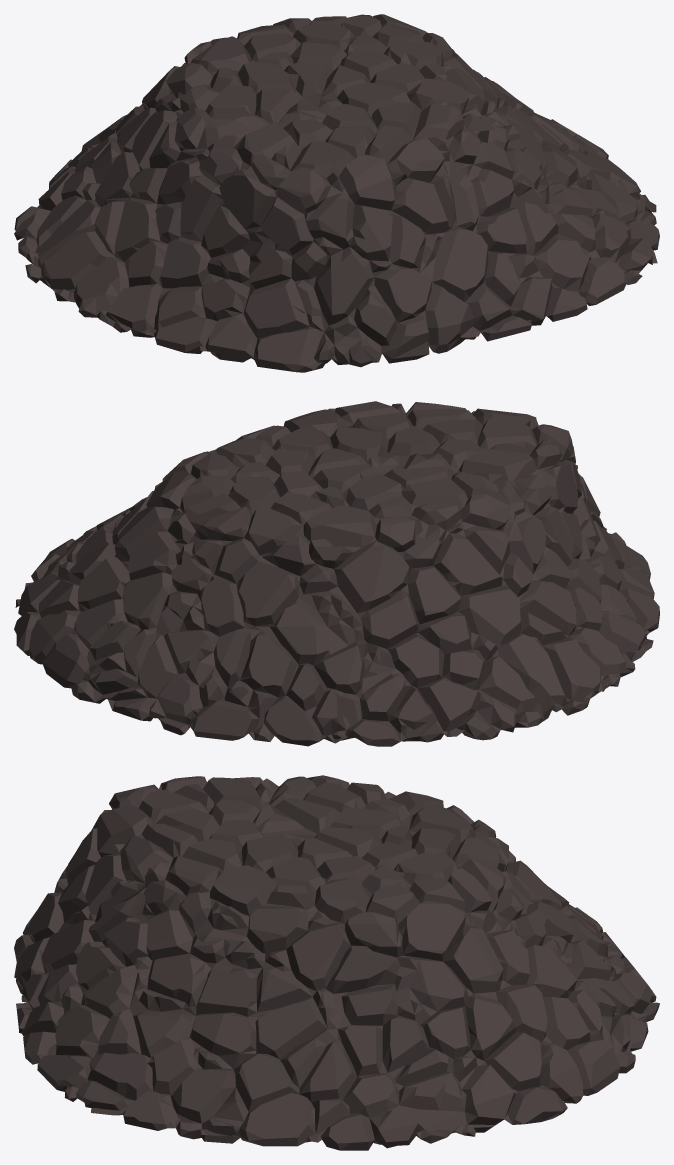
Rendered from StoneBig06.fbx.
3 views of the same model, one above another, from view 1: azimuth 30°, elevation 25°; view 2: azimuth 150°, elevation 25°; view 3: azimuth 270°, elevation 25° (orthographic). The views are drawn at different scales.
Parts seen in each view (by area): view 1: Cylinder.009; view 2: Cylinder.009; view 3: Cylinder.009.
Part boxes in pixels (x1,y1,x2,y2): Cylinder.009: [14, 14, 659, 372]; Cylinder.009: [14, 401, 659, 746]; Cylinder.009: [14, 775, 659, 1150].
Bounding box in the file's own units: 396 × 113 × 382.
